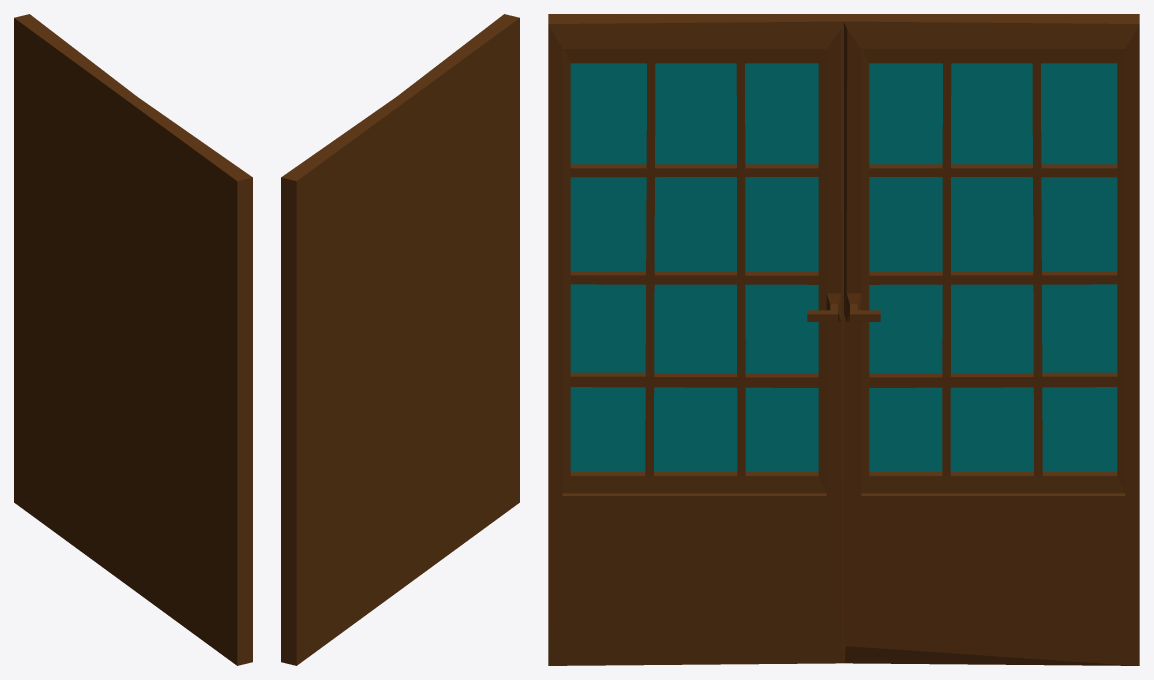
Rendered from CafeDoor.fbx.
3 views of the same model, side by side, from view 1: azimuth 30°, elevation 25°; view 2: azimuth 150°, elevation 25°; view 3: azimuth 270°, elevation 25° (orthographic). The views are drawn at different scales.
Visible parts, largest first — view 1: Cube.028; view 2: Cube.028; view 3: Cube.028.
Boxes of the visible parts, left/top/right/bottom form: Cube.028: left=14, top=14, right=252, bottom=665; Cube.028: left=281, top=14, right=519, bottom=665; Cube.028: left=548, top=14, right=1139, bottom=665.
Bounding box in the file's own units: 17.01 × 200 × 240.
